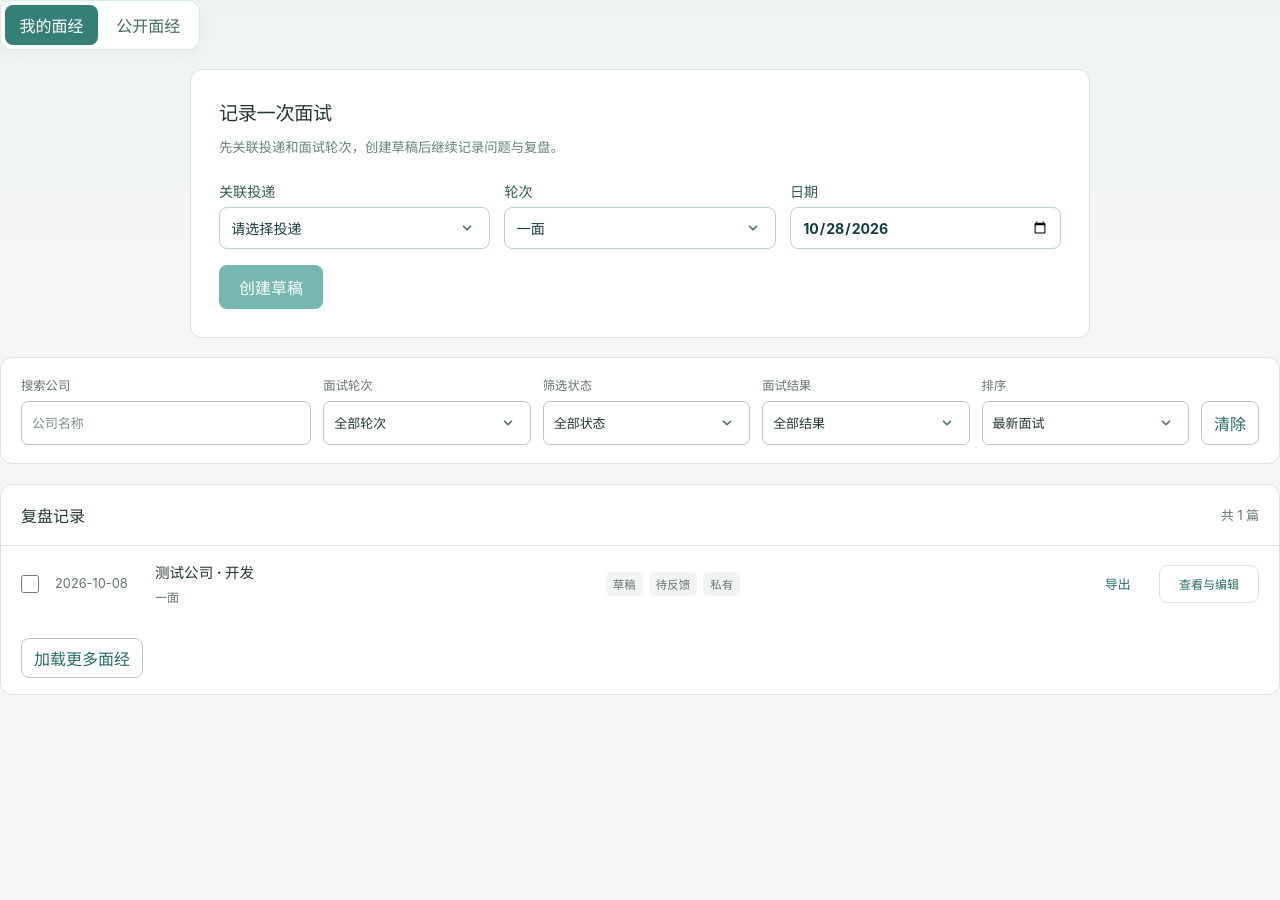
Test: loads more private reviews, filters by status, and deletes a selected review
Click the button "加载更多面经" at (82, 658), box [21, 638, 143, 678]
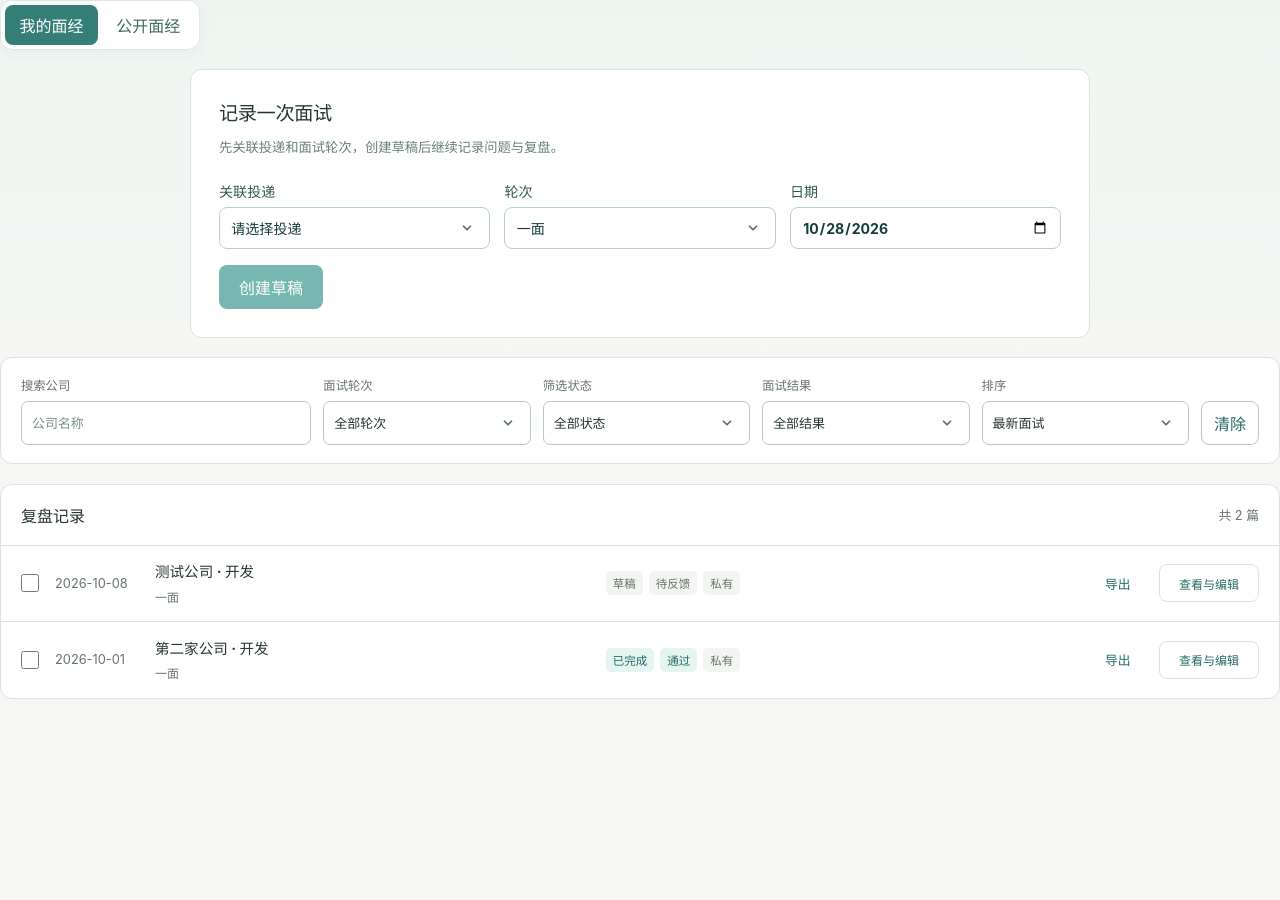
Check: the button "第二家公司 · 开发" is shown, box [155, 638, 594, 661]
Select "已完成" in the dropdown labelled "筛选状态" at (646, 423), box [543, 401, 750, 445]
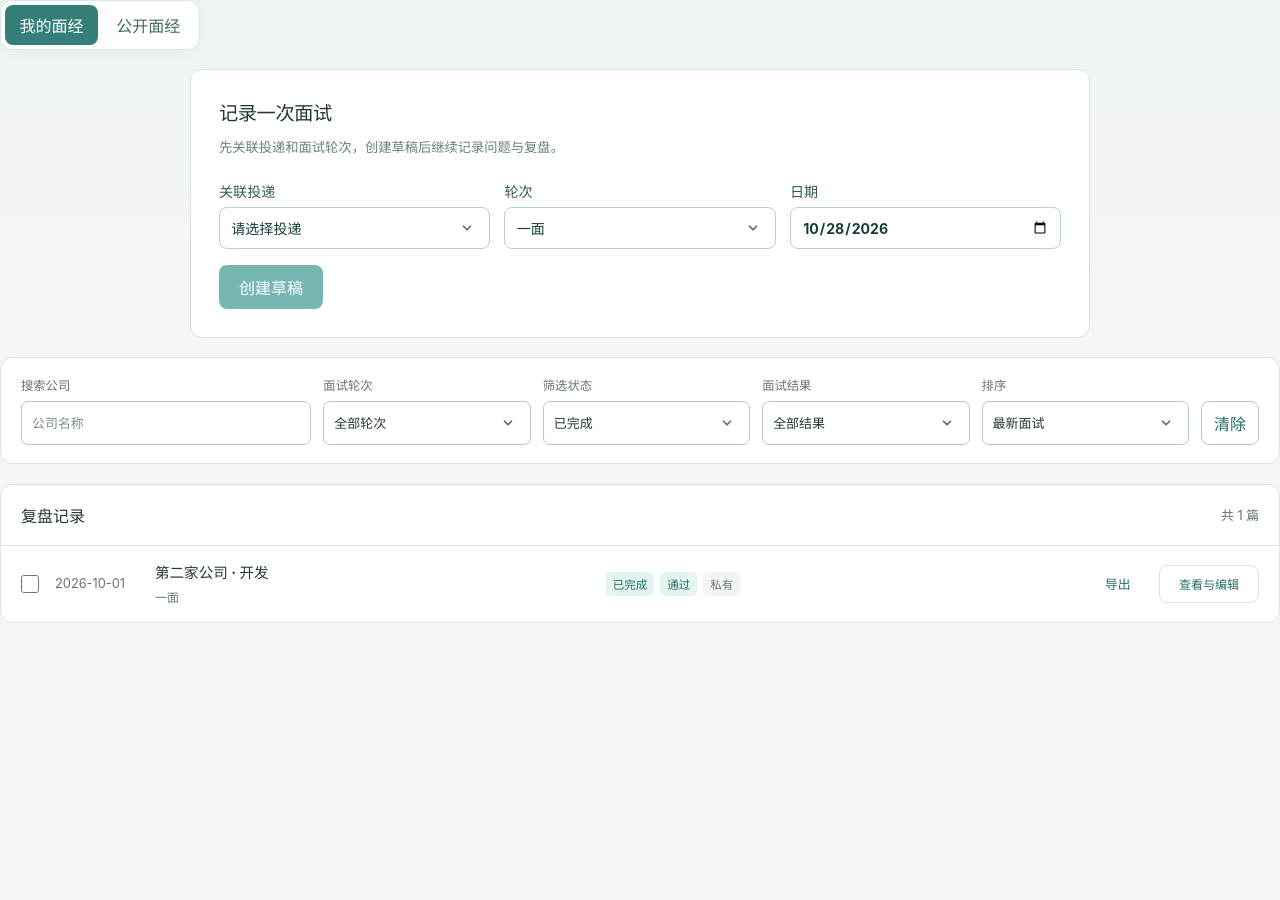
Check: the button "测试公司 · 开发" is gone
Select "最早面试" in the dropdown labelled "排序" at (1085, 423), box [982, 401, 1189, 445]
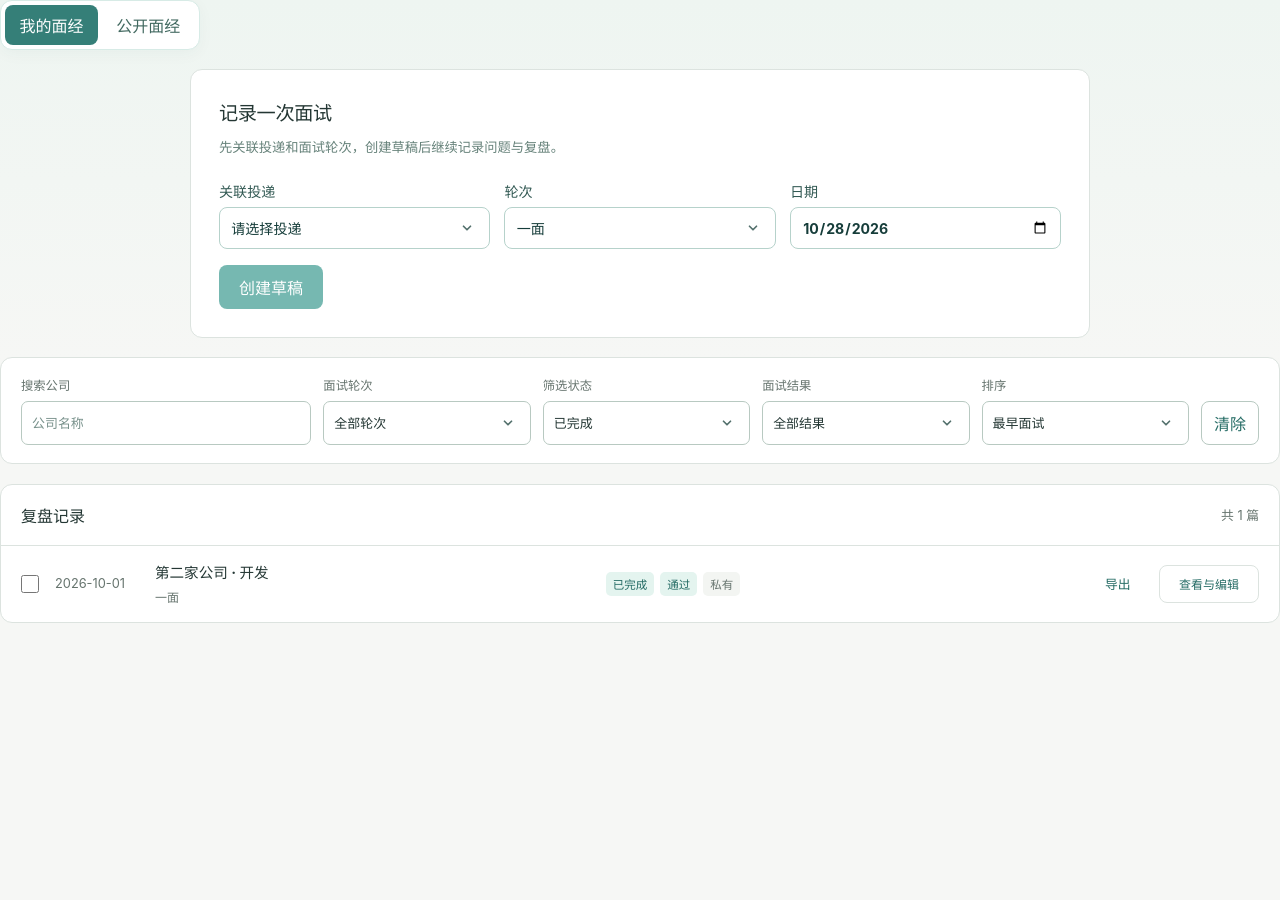
Click the button "查看与编辑" at (1209, 584), box [1159, 564, 1259, 602]
(page scrolled)
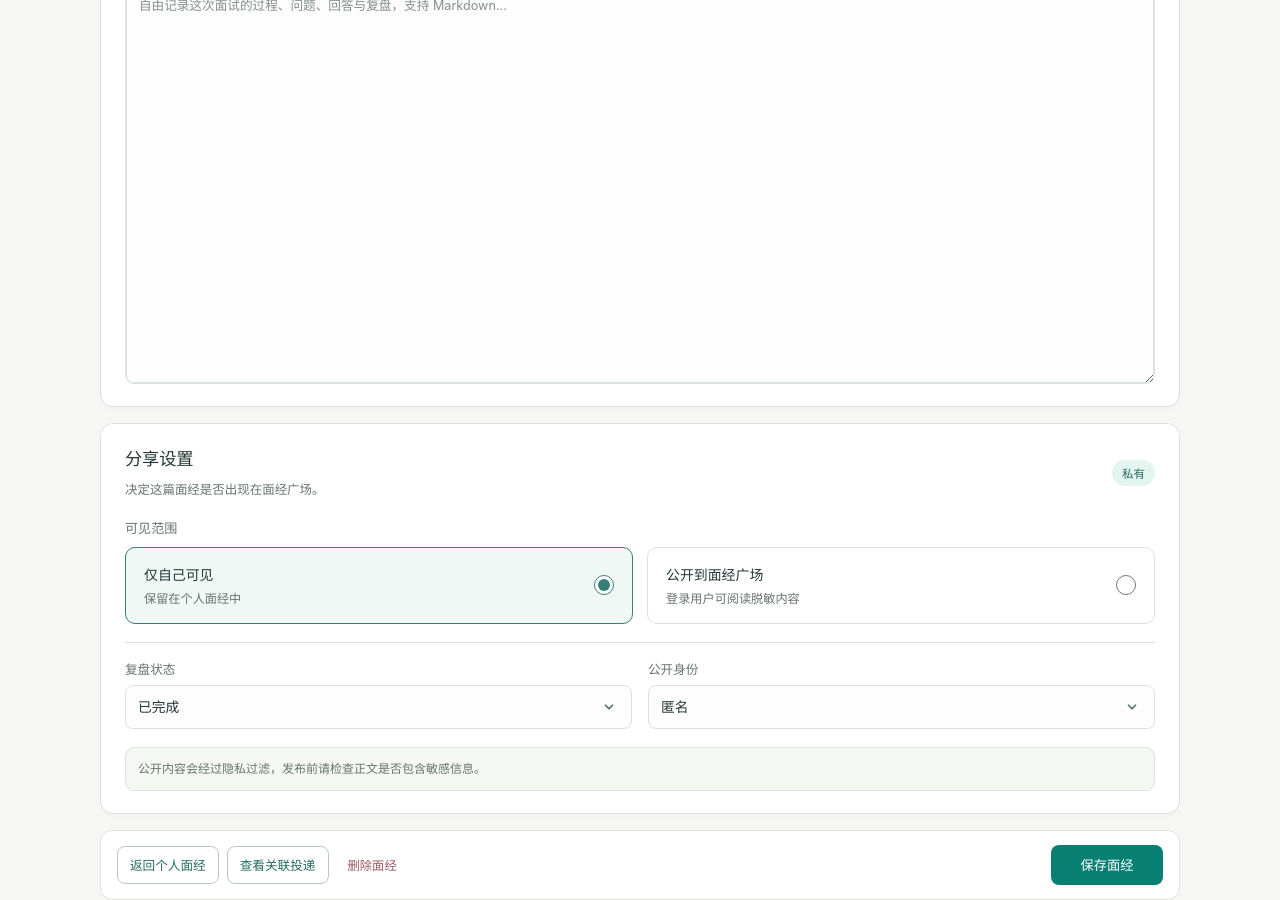
Click the button "删除面经" at (372, 864), box [336, 844, 408, 884]
(page scrolled)
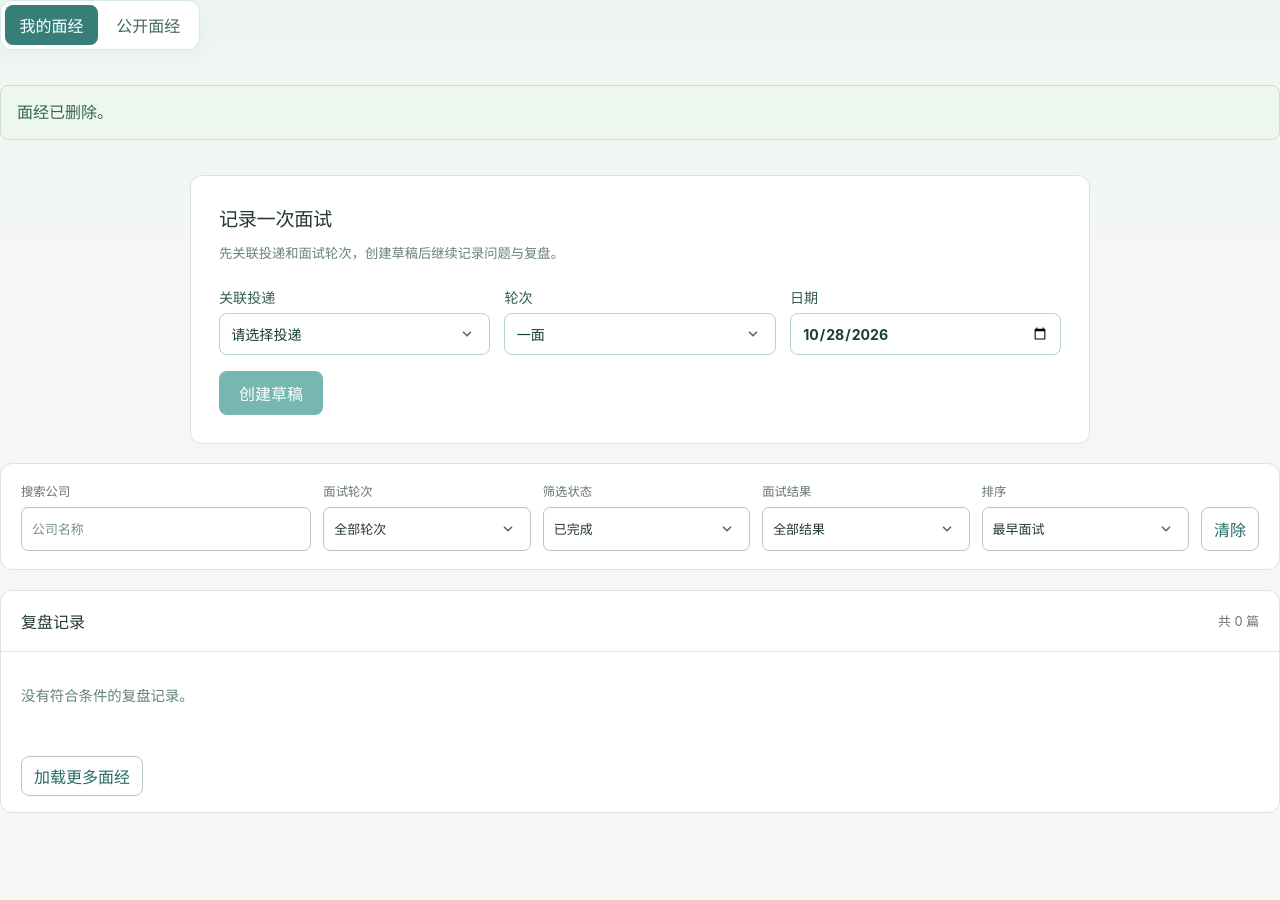
Check: the text "面经已删除。" is shown, box [0, 85, 1279, 140]
